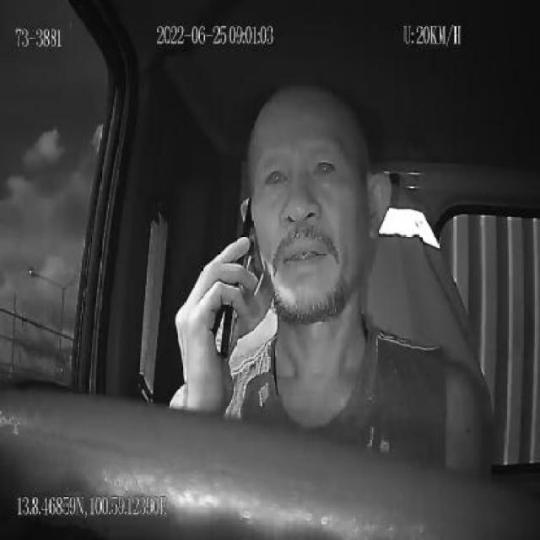phone: (219, 197, 253, 362)
